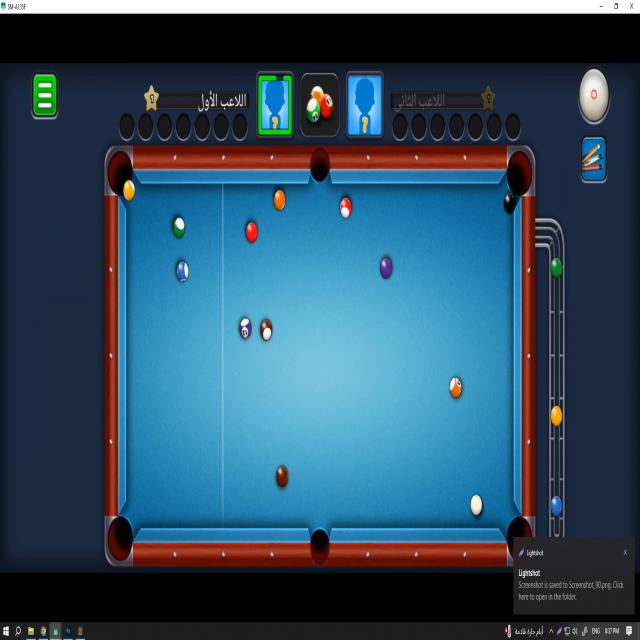object_ball: (176, 261, 189, 282), (380, 258, 392, 279), (504, 193, 516, 213), (450, 377, 461, 398), (240, 318, 251, 339), (174, 217, 185, 238), (277, 466, 288, 487), (340, 198, 351, 218), (274, 190, 285, 210), (261, 320, 272, 340), (246, 222, 257, 242), (124, 180, 134, 200)
white_cue_ball: (471, 495, 482, 515)
